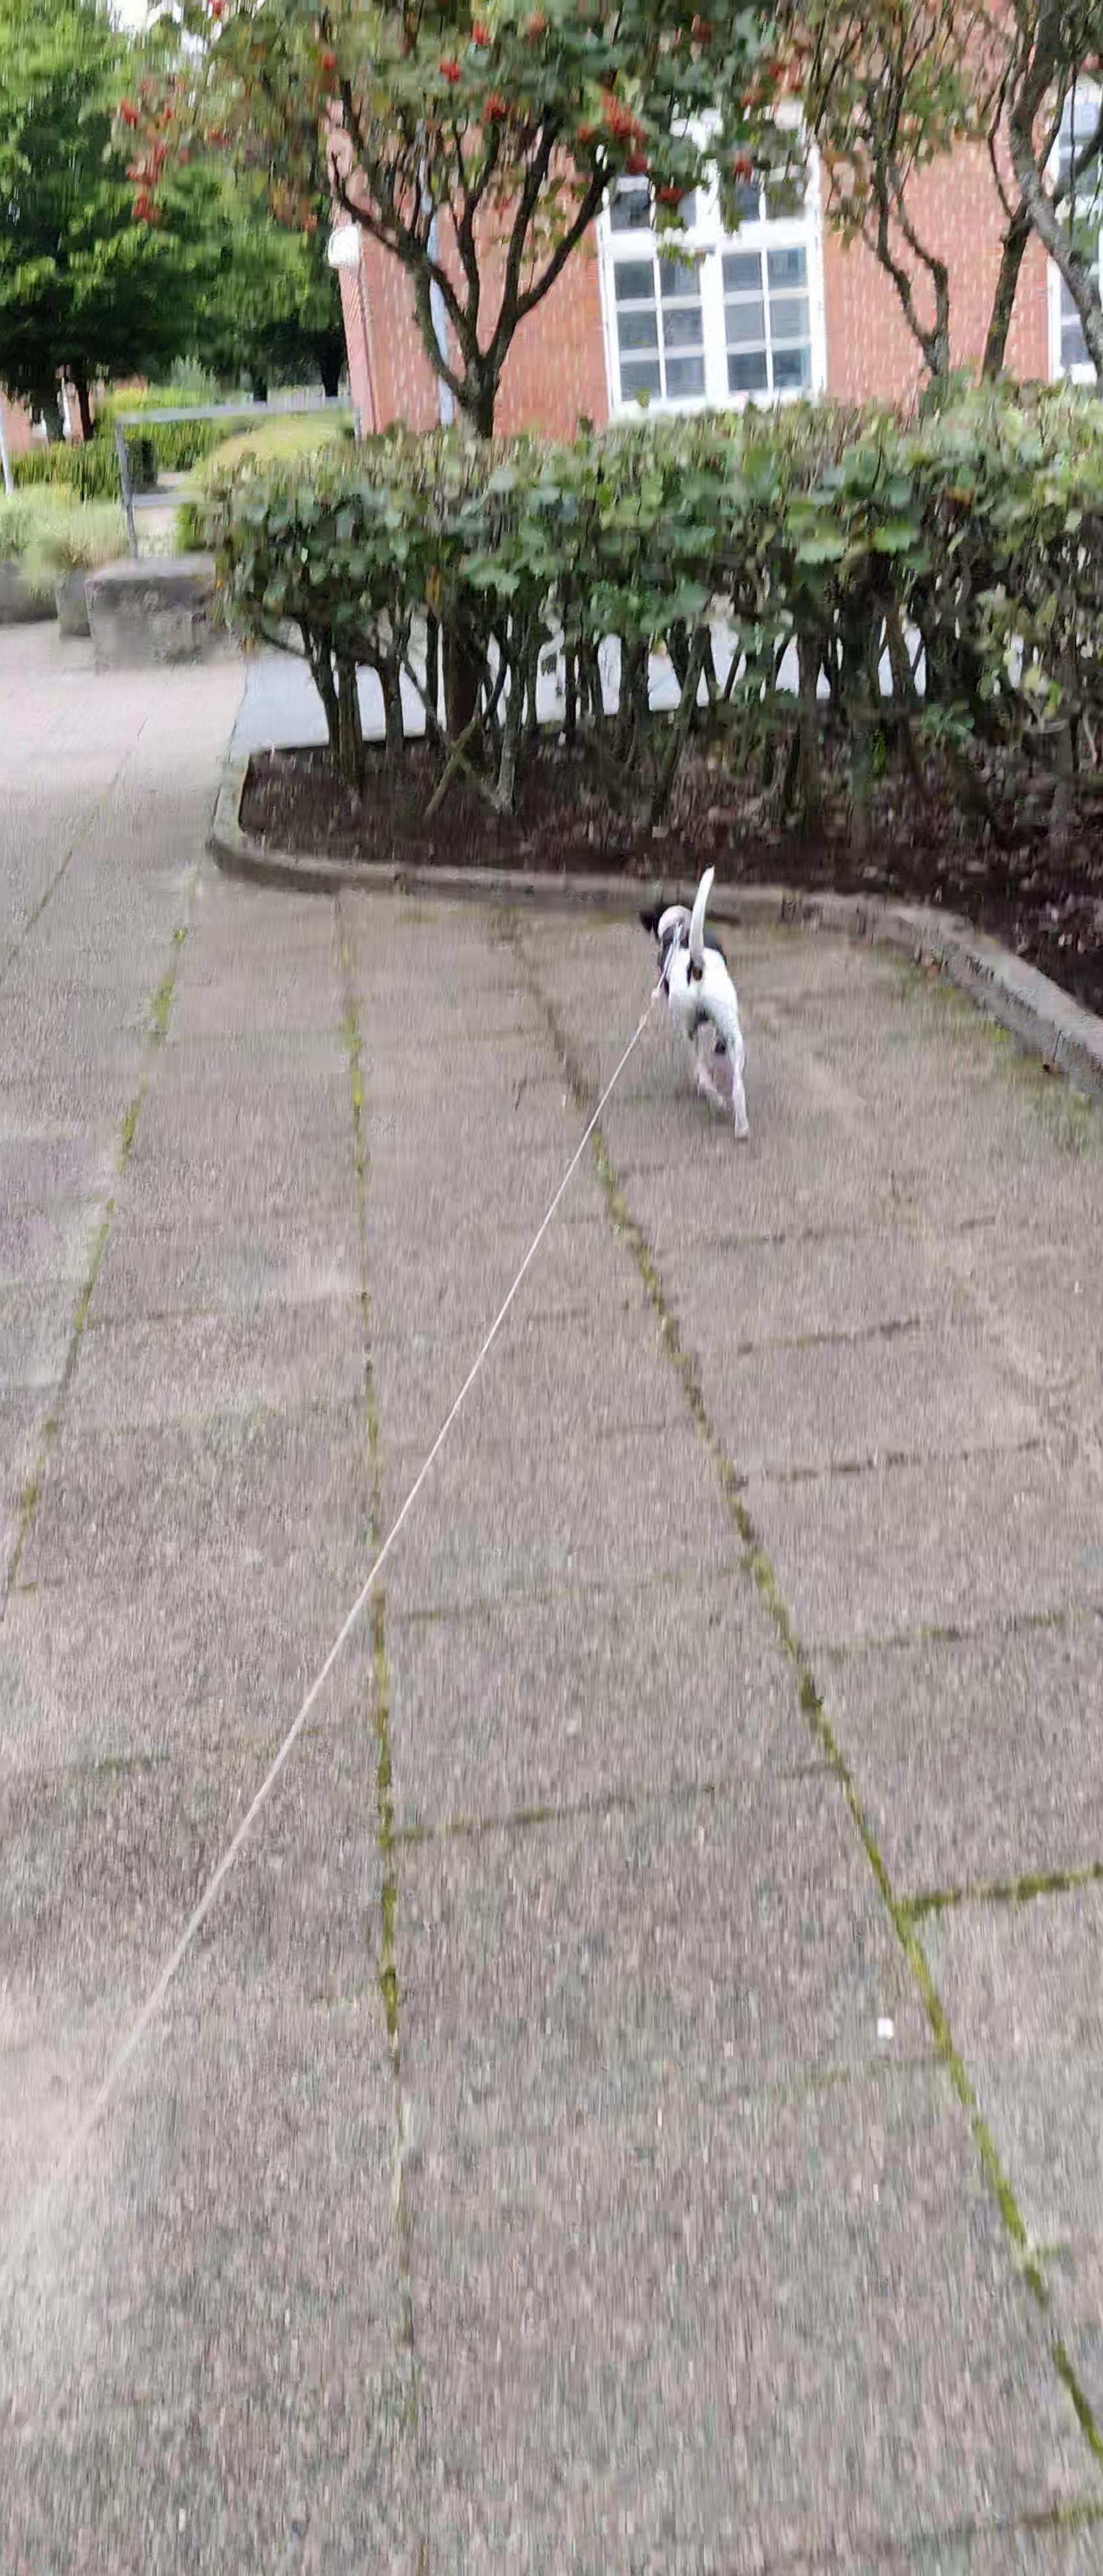Dog: (623, 835, 768, 1158)
